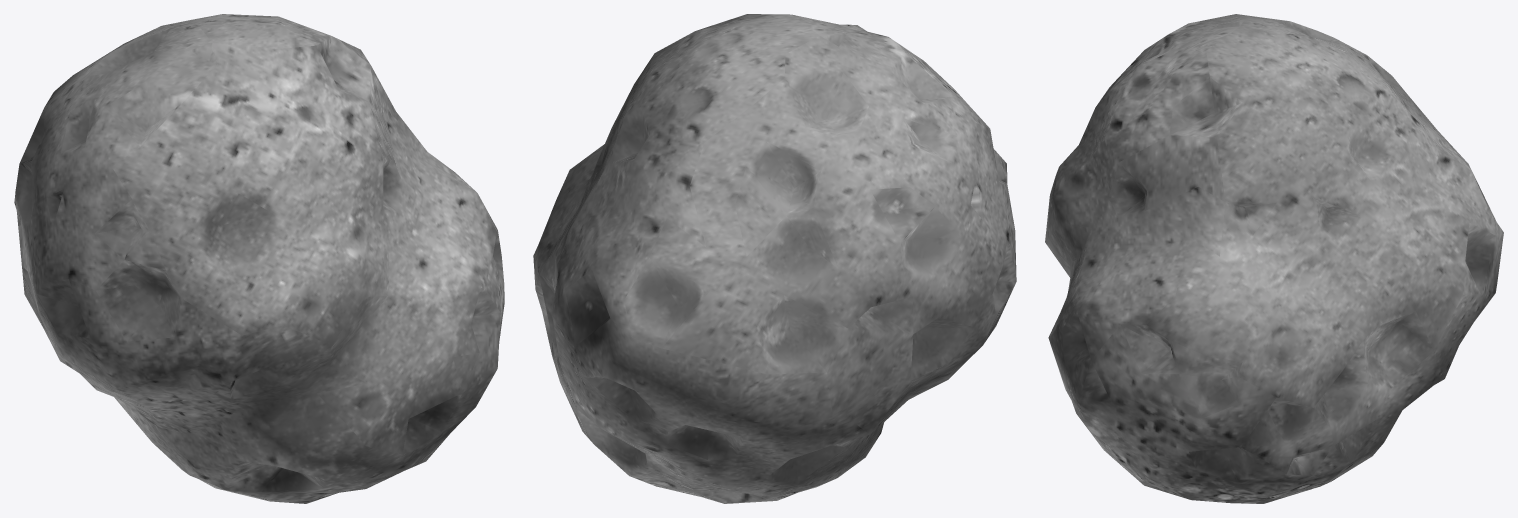
The model's file is rock_08.glb.
3 renders of one model, left to right at view 1: azimuth 30°, elevation 25°; view 2: azimuth 150°, elevation 25°; view 3: azimuth 270°, elevation 25°, orthographic. The views are drawn at different scales.
Parts seen in each view (by area): view 1: rock_08; view 2: rock_08; view 3: rock_08.
Boxes of the visible parts, x1=… form: rock_08: x1=14, y1=14, x2=504, y2=503; rock_08: x1=533, y1=14, x2=1016, y2=503; rock_08: x1=1045, y1=14, x2=1503, y2=503.
Size of the model in its own units: 1.76 by 1.77 by 1.73.
Materials: 1 (1 with a texture image).
